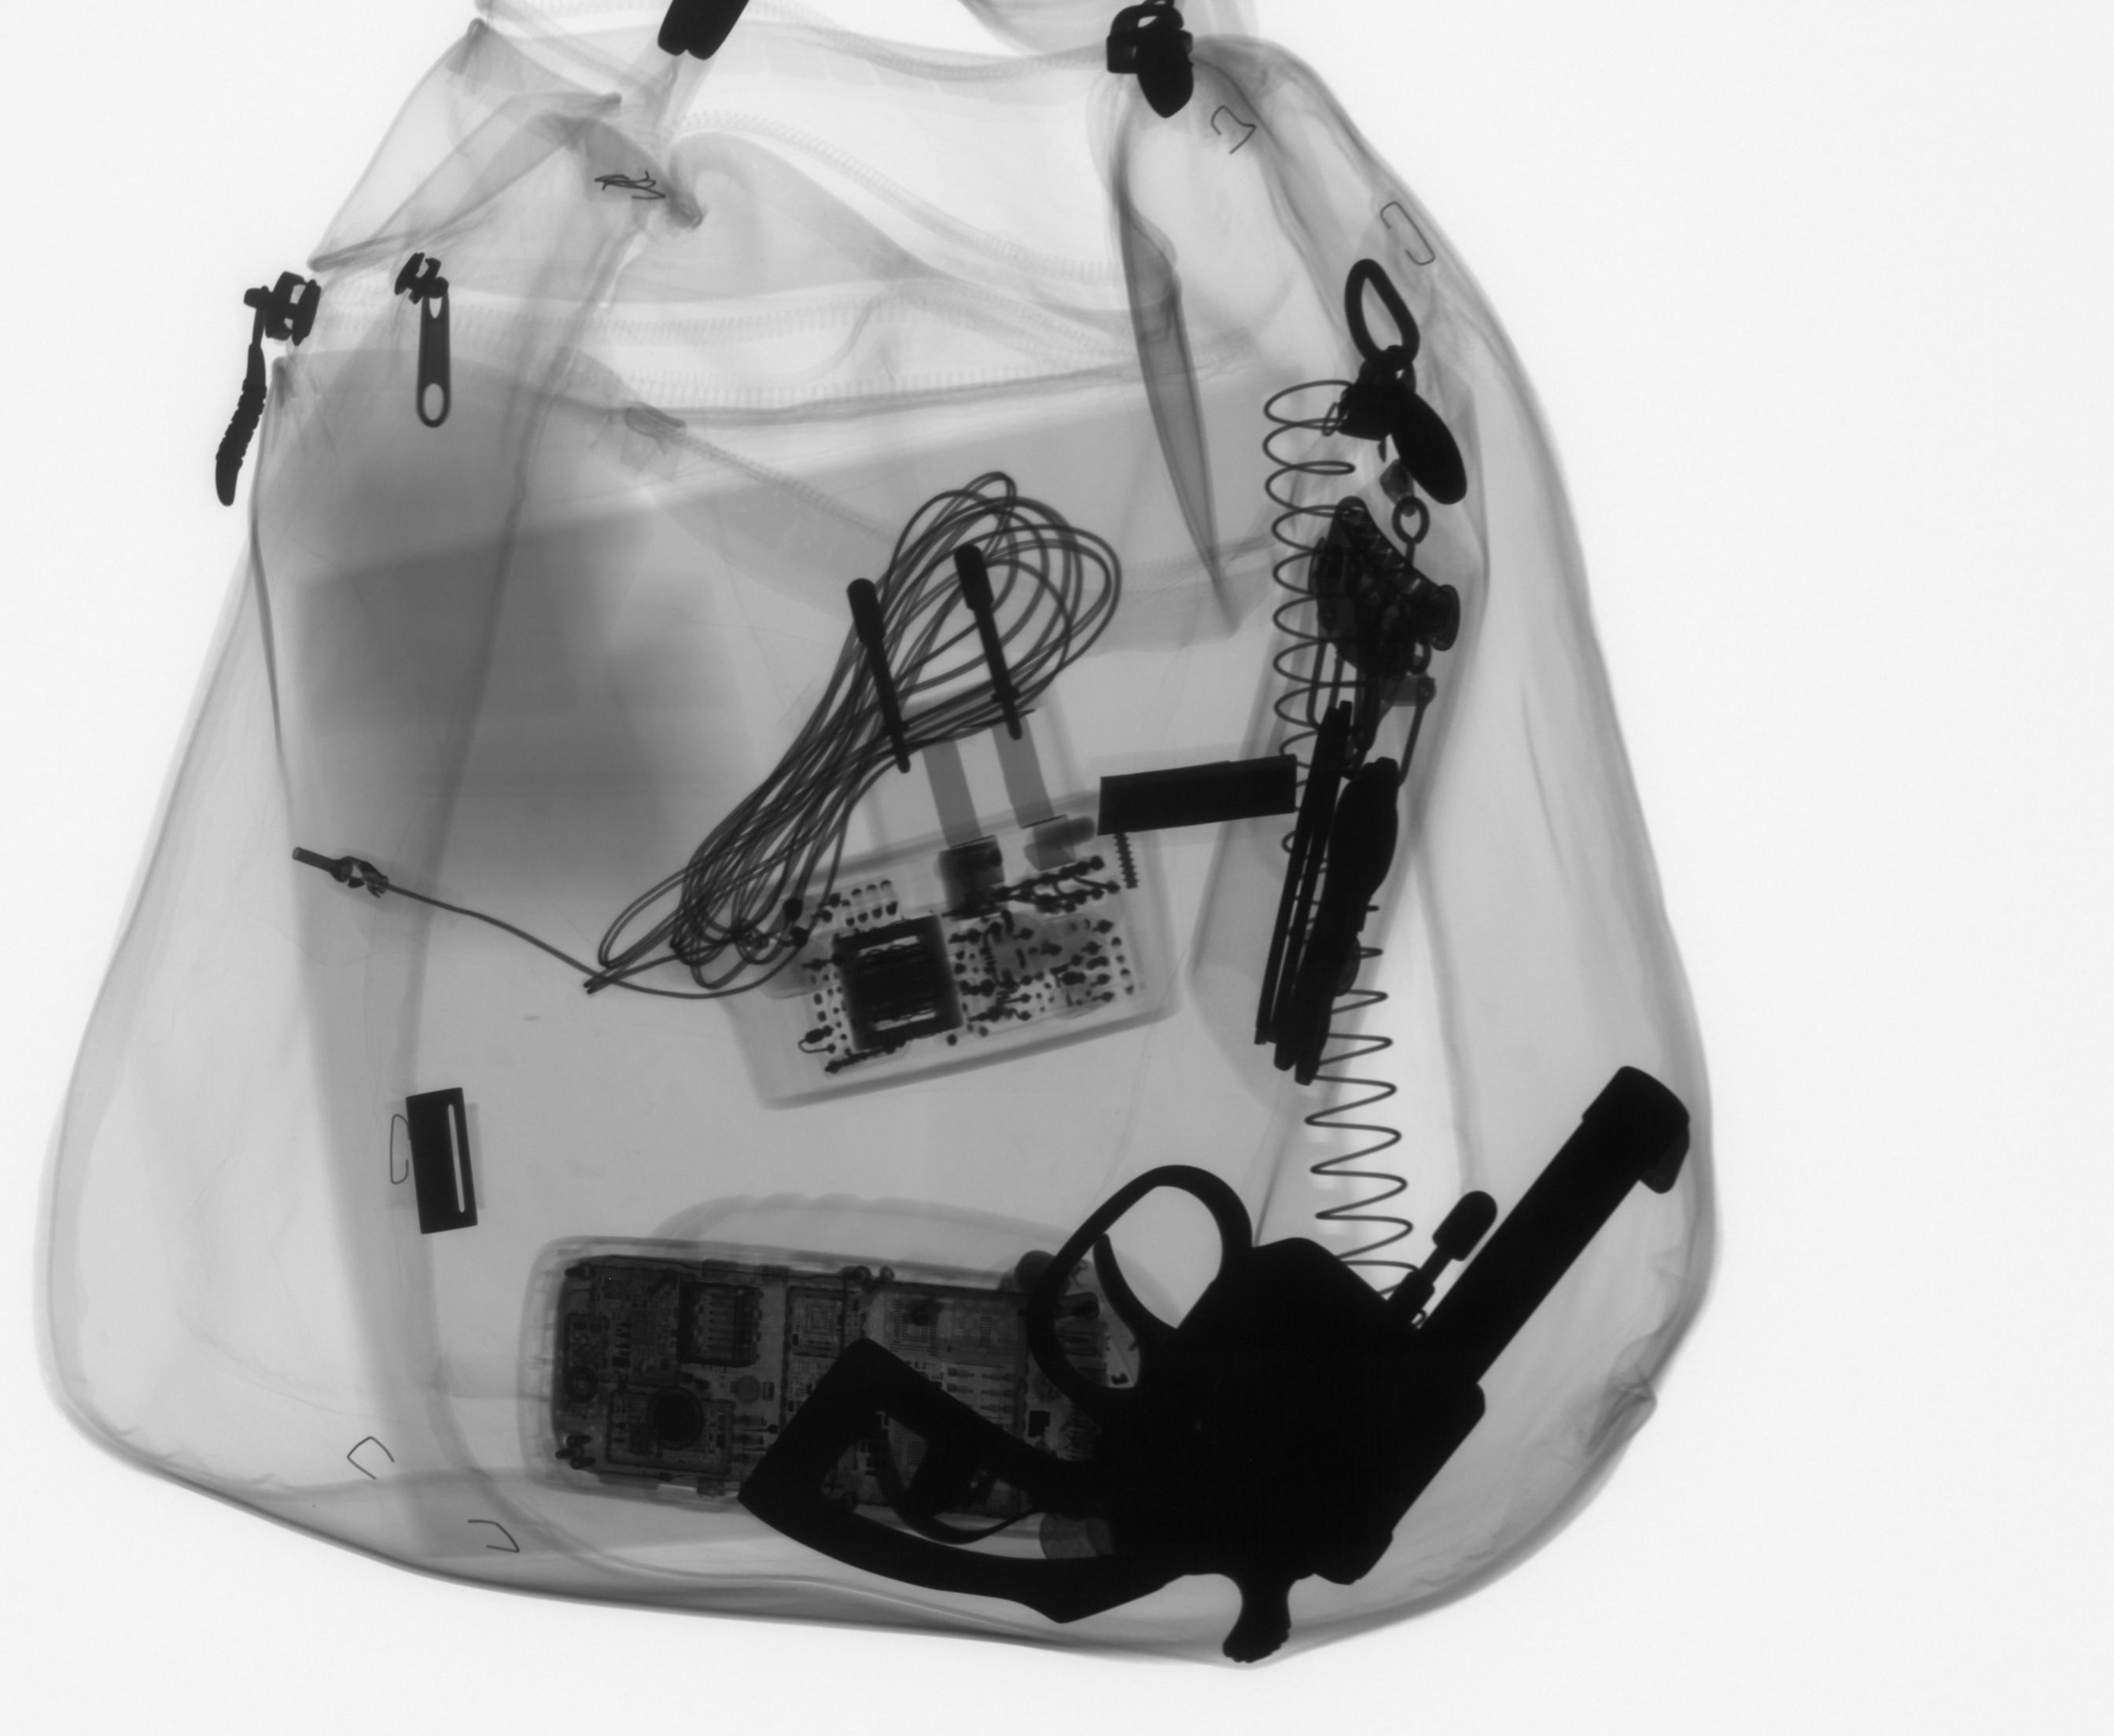Handgun: (730, 1057, 1701, 1669)
